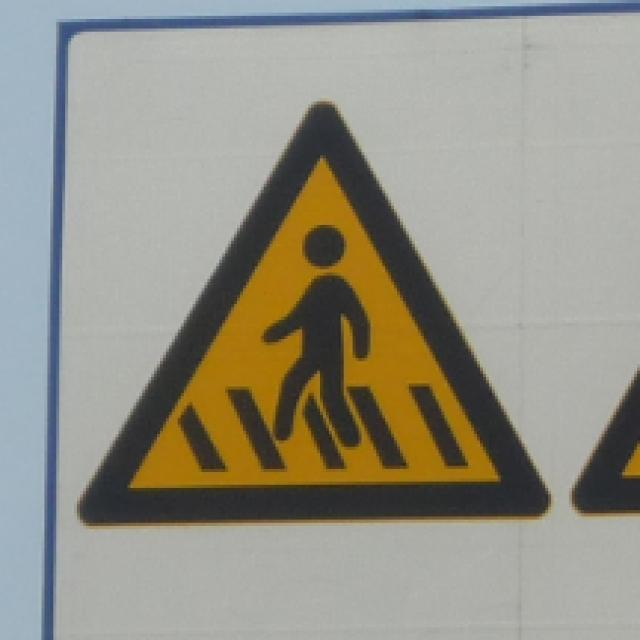Crossing: (79, 86, 561, 525)
